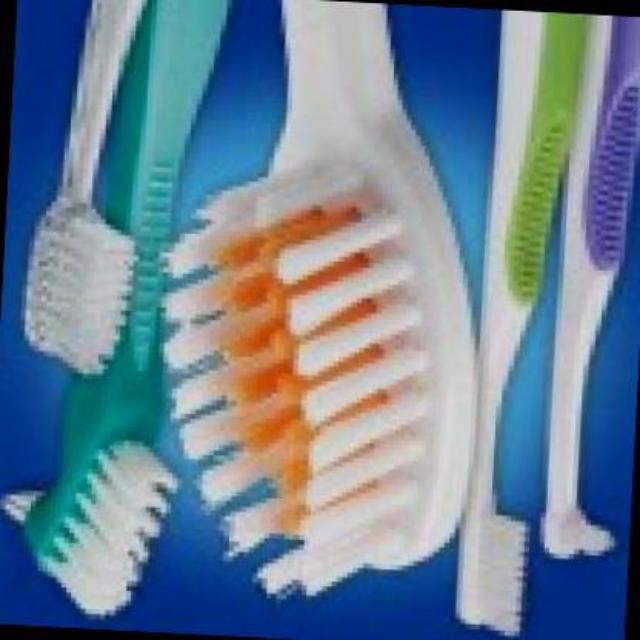toothbrush: (158, 0, 492, 638)
